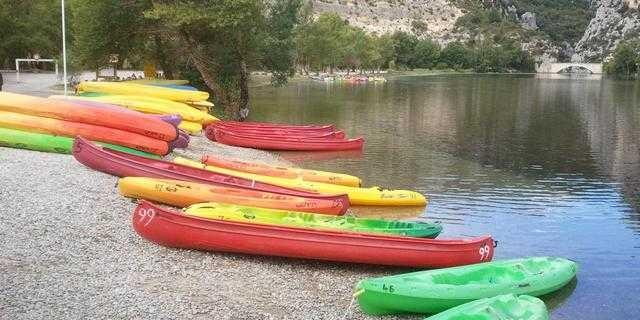kayak: (131, 198, 495, 266), (75, 138, 403, 206), (353, 256, 577, 315), (114, 176, 369, 214), (0, 97, 177, 147), (201, 123, 362, 152), (77, 87, 218, 118), (424, 292, 550, 320), (76, 81, 211, 103), (206, 120, 349, 138)
